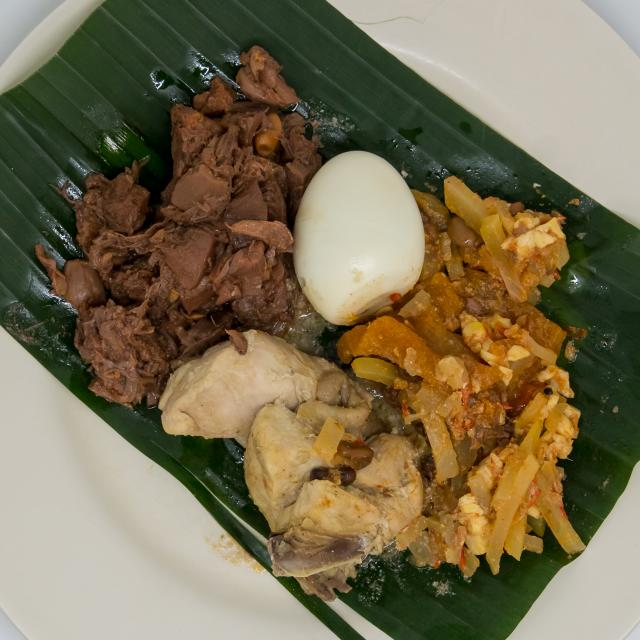Gudeg-Jogja: (26, 23, 604, 610)
